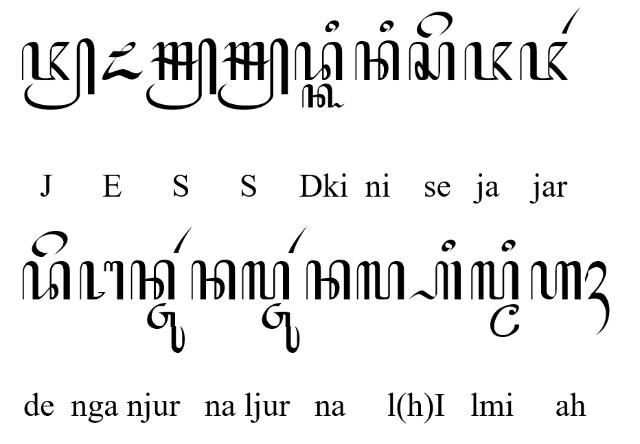-S: (147, 37, 217, 111), (218, 38, 288, 110)
-j: (22, 38, 96, 112)
E: (101, 41, 143, 81)
_h: (407, 260, 463, 302)
_h1: (584, 262, 610, 336)
_ju: (146, 302, 186, 354), (260, 302, 300, 354)
_k: (301, 83, 345, 109)
_m: (490, 304, 520, 338)
_r: (172, 226, 192, 254)
_r1: (560, 6, 582, 34), (288, 226, 308, 254)
d: (22, 261, 72, 301), (295, 41, 343, 82)
e: (416, 11, 452, 39), (32, 230, 68, 258)
h: (530, 260, 584, 302)
i: (500, 238, 518, 254), (378, 18, 394, 34), (324, 19, 340, 33), (440, 239, 456, 253)
j: (463, 41, 513, 82), (520, 41, 568, 82)
l: (470, 260, 520, 302), (356, 260, 404, 302), (241, 262, 291, 302)
n: (305, 260, 351, 302), (354, 41, 400, 82), (130, 259, 174, 301), (190, 260, 236, 300)
nga: (80, 260, 124, 302)
s: (409, 41, 455, 82)
